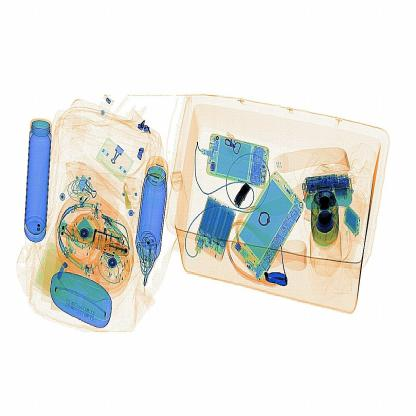scissors: (229, 176, 262, 216)
